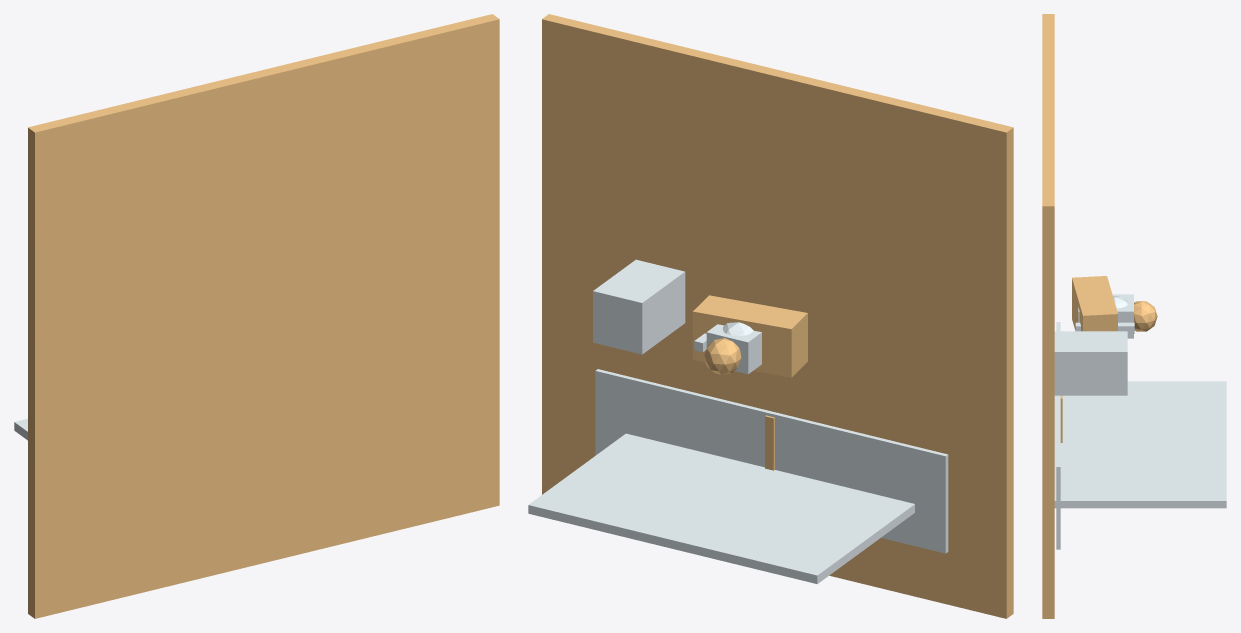
Rendered from world-cup-soccer-kit.glb.
3 renders of one model, left to right at view 1: azimuth 30°, elevation 25°; view 2: azimuth 150°, elevation 25°; view 3: azimuth 270°, elevation 25°, orthographic. The views are drawn at different scales.
Parts seen in each view (by area): view 1: ENVIRONMENT_GROUND; view 2: ENVIRONMENT_GROUND, ENVIRONMENT_GATE, PROFILE_ENVIRONMENT_DETAIL, PROFILE_OBSTACLE_DETAIL, PLAYER_BODY, PROFILE_PLAYER_DETAIL, PROFILE_PLAYER_HEAD; view 3: ENVIRONMENT_GATE, ENVIRONMENT_GROUND, PROFILE_OBSTACLE_DETAIL, PLAYER_BODY, PROFILE_ENVIRONMENT_DETAIL, PROFILE_PLAYER_HEAD, PROFILE_PLAYER_DETAIL.
Boxes of the visible parts, left/top/right/bottom form: ENVIRONMENT_GROUND: left=28, top=14, right=499, bottom=618; ENVIRONMENT_GROUND: left=542, top=14, right=1013, bottom=618; ENVIRONMENT_GATE: left=528, top=433, right=914, bottom=584; PROFILE_ENVIRONMENT_DETAIL: left=595, top=369, right=948, bottom=553; PROFILE_OBSTACLE_DETAIL: left=593, top=259, right=685, bottom=354; PLAYER_BODY: left=692, top=295, right=807, bottom=377; PROFILE_PLAYER_DETAIL: left=706, top=324, right=761, bottom=374; PROFILE_PLAYER_HEAD: left=704, top=338, right=741, bottom=375; ENVIRONMENT_GATE: left=1054, top=381, right=1226, bottom=508; ENVIRONMENT_GROUND: left=1042, top=14, right=1054, bottom=618; PROFILE_OBSTACLE_DETAIL: left=1054, top=331, right=1127, bottom=395; PLAYER_BODY: left=1072, top=276, right=1117, bottom=331; PROFILE_ENVIRONMENT_DETAIL: left=1056, top=322, right=1060, bottom=549; PROFILE_PLAYER_HEAD: left=1134, top=301, right=1157, bottom=331; PROFILE_PLAYER_DETAIL: left=1078, top=294, right=1133, bottom=338.
Size of what is drawn, in the model's own units: 9 by 9 by 3.64.
